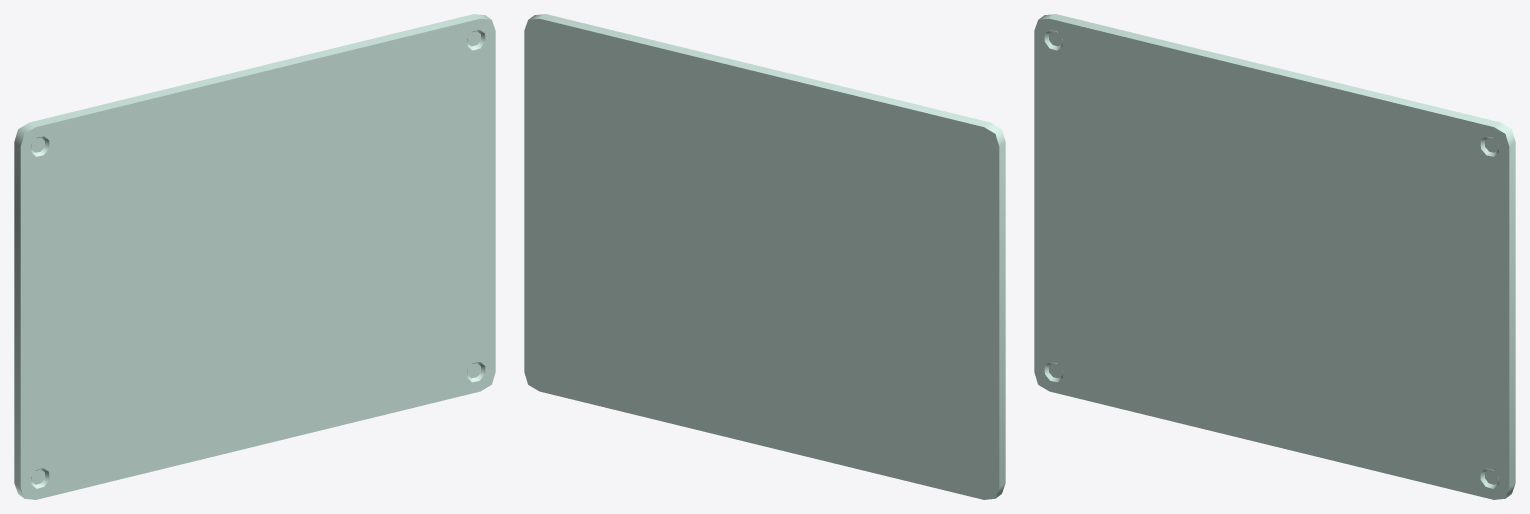
Rendered from tin_sign.fbx.
3 views of the same model, side by side, from view 1: azimuth 30°, elevation 25°; view 2: azimuth 150°, elevation 25°; view 3: azimuth 330°, elevation 25° (orthographic).
Visible parts, largest first — view 1: tin_sign_tinsign; view 2: tin_sign_tinsign; view 3: tin_sign_tinsign.
Boxes of the visible parts, box(x1,y1,x2,y2) form: tin_sign_tinsign: box(14, 14, 495, 499); tin_sign_tinsign: box(524, 14, 1005, 499); tin_sign_tinsign: box(1034, 14, 1515, 499).
Bounding box in the file's own units: 6400 × 4800 × 150.
